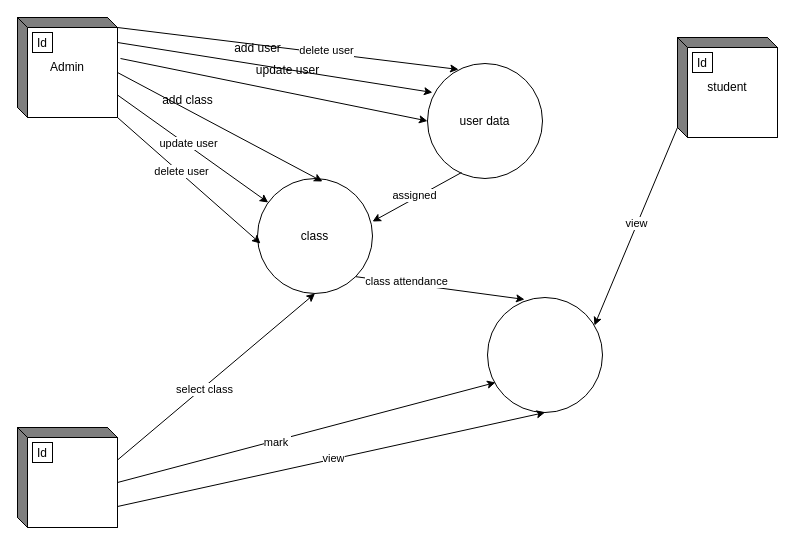
The diagram is 795 pixels wide and 545 high, and some of its shapes have lost their labels. Each missing label, with the centre of its shape:
attendance: the point at 544,354
Teacher: the point at 67,477
